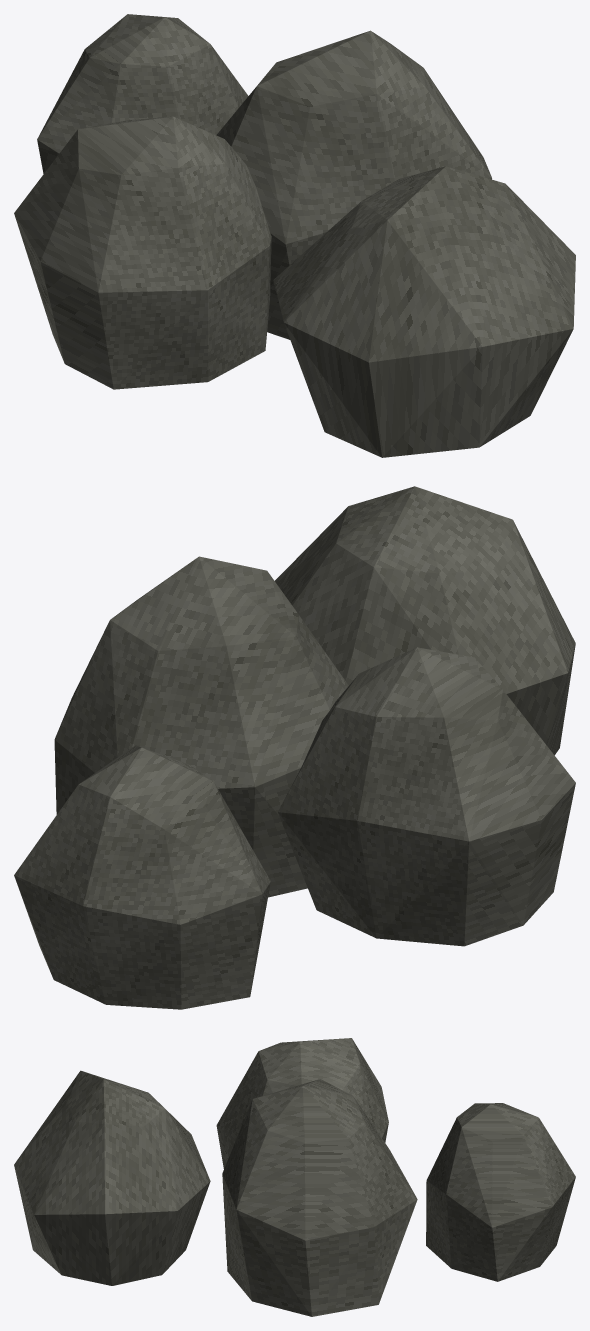
File: env_rocks_07_stone_cluster.glb
The picture shows the model from 3 angles, top to bottom: view 1: azimuth 30°, elevation 25°; view 2: azimuth 150°, elevation 25°; view 3: azimuth 270°, elevation 25°; orthographic projection. The views are drawn at different scales.
Parts seen in each view (by area): view 1: solid; view 2: solid; view 3: solid.
Boxes of the visible parts, x1,y1,x2,y2 form: solid: (14, 14, 575, 457); solid: (14, 486, 575, 1009); solid: (14, 1038, 575, 1316).
Size of the model in its own units: 0.8845 by 0.5075 by 1.35.
Materials: 1 (1 with a texture image).
